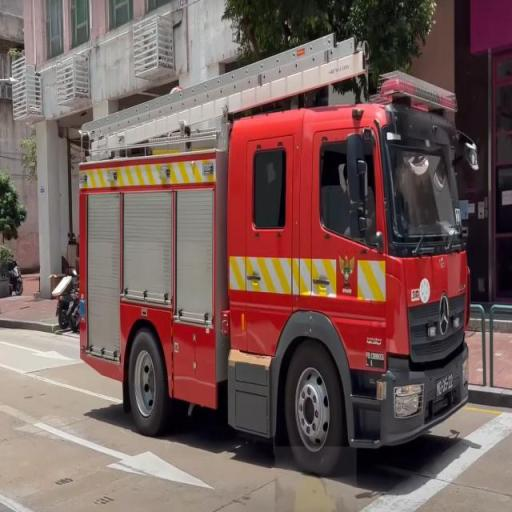fire truck: (74, 24, 486, 479)
